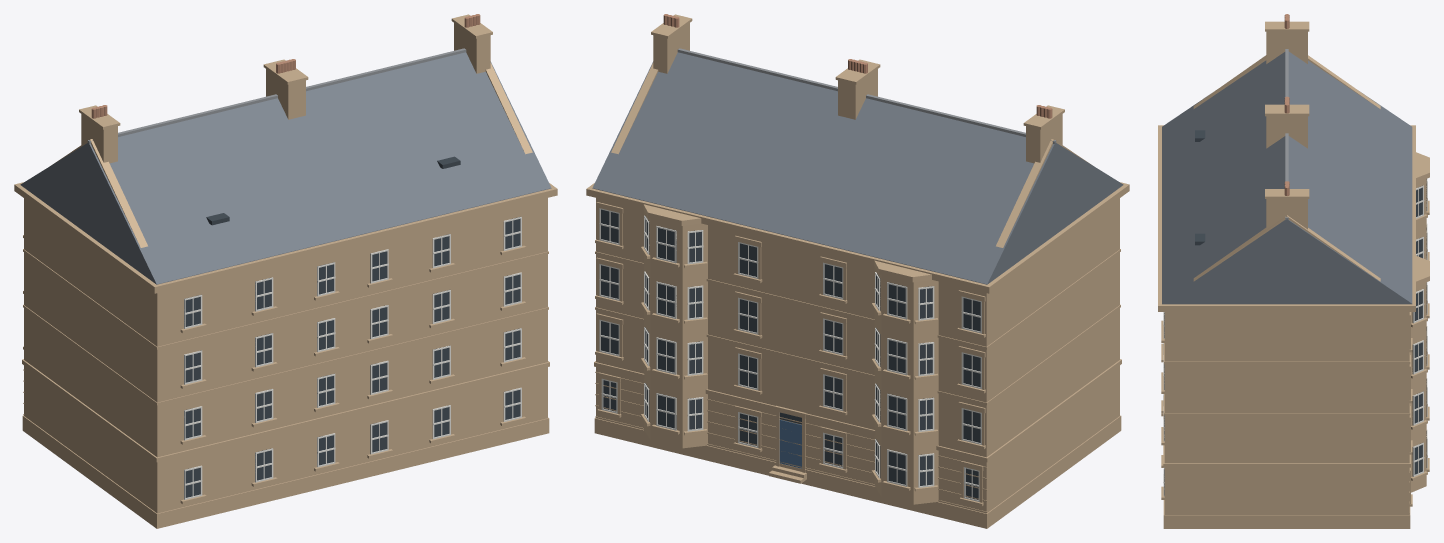
File: tenement4.glb
3 renders of one model, left to right at view 1: azimuth 30°, elevation 25°; view 2: azimuth 150°, elevation 25°; view 3: azimuth 270°, elevation 25°, orthographic. The views are drawn at different scales.
Parts seen in each view (by area): view 1: tenement4; view 2: tenement4; view 3: tenement4.
Boxes of the visible parts, bbox=[...] form: tenement4: bbox=[14, 14, 557, 528]; tenement4: bbox=[586, 14, 1129, 528]; tenement4: bbox=[1158, 14, 1429, 528].
Size of the model in its own units: 22.7 by 19.92 by 14.43.
